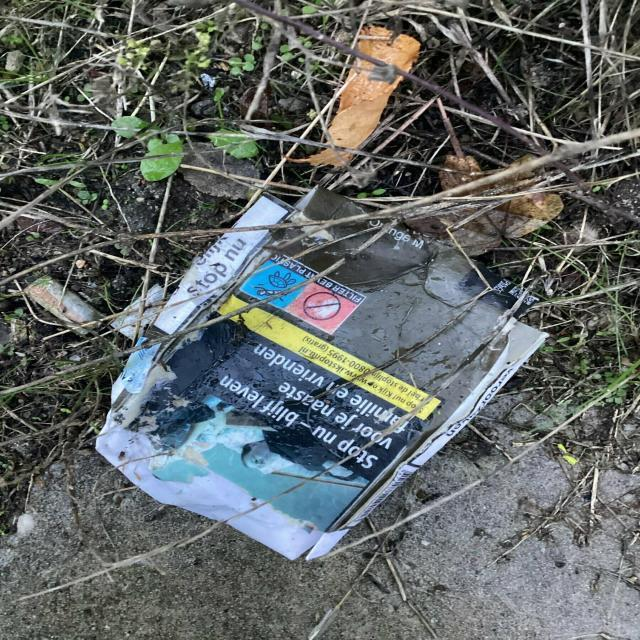Paper: (86, 182, 558, 568)
